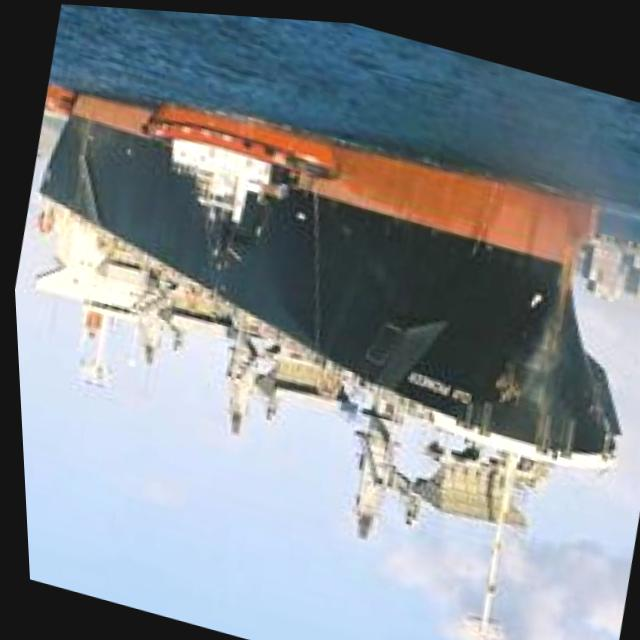ship2: (31, 89, 618, 640), (147, 101, 354, 261)
